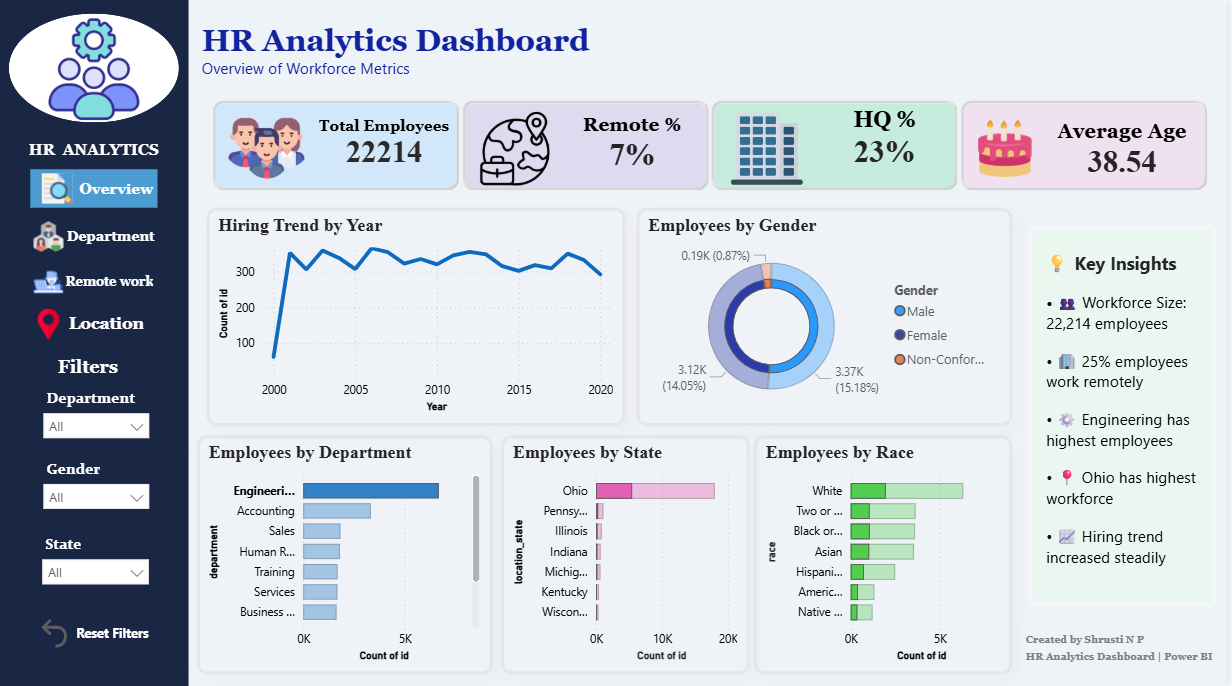

The dashboard page shown, as its layout file describes it:
{"tool":"powerbi","page":{"name":"Page 1","canvas":[1283,720],"ordinal":0},"visuals":[{"type":"cardVisual","fields":{"Data":["project_hr_analytics HR.Total Employees","project_hr_analytics HR.Remote %","project_hr_analytics HR.HQ %","project_hr_analytics HR.Average Age"]},"box":[207.5,90,1072.5,128.8],"z":0},{"type":"lineChart","title":"Hiring Trend by Year","fields":{"Category":["project_hr_analytics HR.hire_date.Variation.Date Hierarchy.Year1"],"Y":["CountNonNull(project_hr_analytics HR.id)"]},"box":[217.5,218.8,437.5,227.5],"z":1000},{"type":"donutChart","title":"Employees by Gender","fields":{"Category":["project_hr_analytics HR.gender"],"Y":["CountNonNull(project_hr_analytics HR.id)"]},"box":[666.2,218.8,392.5,227.5],"z":2000},{"type":"barChart","title":"Employees by Department","fields":{"Category":["project_hr_analytics HR.department"],"Y":["CountNonNull(project_hr_analytics HR.id)"]},"box":[207.5,456.2,308.8,250],"z":3000},{"type":"barChart","title":"Employees by State","fields":{"Category":["project_hr_analytics HR.location_state"],"Y":["CountNonNull(project_hr_analytics HR.id)"]},"box":[525,456.2,260,250],"z":4000},{"type":"barChart","title":"Employees by Race","fields":{"Category":["project_hr_analytics HR.race"],"Y":["CountNonNull(project_hr_analytics HR.id)"]},"box":[788.8,456.2,270,250],"z":5000},{"type":"textbox","box":[207.5,3.8,433.8,86.2],"z":6000},{"type":"shape","box":[1075,237.5,196.2,397.5],"z":7000},{"type":"textbox","box":[1087.5,258.8,152.5,35],"z":8000},{"type":"textbox","box":[1088.8,301.2,172.5,310],"z":9000},{"type":"shape","box":[0,0,198.8,720],"z":10000},{"type":"shape","box":[11.2,16.2,177.5,113.8],"z":11000},{"type":"image","box":[33.8,18.8,132.5,111.2],"z":12000},{"type":"textbox","box":[11.2,130,177.5,48.8],"z":13000},{"type":"actionButton","box":[33.8,178.8,132.5,40],"z":14000},{"type":"actionButton","box":[25,228.8,142.5,40],"z":15000},{"type":"actionButton","box":[25,320,131.2,40],"z":16000},{"type":"actionButton","box":[25,276.2,141.2,40],"z":17000},{"type":"actionButton","box":[38.8,642.5,122.5,40],"z":18000},{"type":"slicer","fields":{"Values":["project_hr_analytics HR.gender"]},"box":[37.5,476.2,130,68.8],"z":19000},{"type":"slicer","fields":{"Values":["project_hr_analytics HR.department"]},"box":[37.5,402.5,130,67.5],"z":20000},{"type":"slicer","fields":{"Values":["project_hr_analytics HR.location_state"]},"box":[36.2,555,131.2,68.8],"z":21000},{"type":"textbox","box":[46.2,368.8,95,33.8],"z":22000},{"type":"textbox","box":[1067.5,653.8,212.5,52.5],"z":23000}]}

Visuals, with their boxes in screenshot pixels (x1, y1, x2, y2), scaled from the page's 1283x720 canvas onto the 1232x686 screenshot:
cardVisual - project_hr_analytics HR.Total Employees x project_hr_analytics HR.Remote %: <box>199,86,1229,208</box>
"Hiring Trend by Year" lineChart: <box>209,208,629,425</box>
"Employees by Gender" donutChart: <box>640,208,1017,425</box>
"Employees by Department" barChart: <box>199,435,496,673</box>
"Employees by State" barChart: <box>504,435,754,673</box>
"Employees by Race" barChart: <box>757,435,1017,673</box>
textbox: <box>199,4,616,86</box>
shape: <box>1032,226,1221,605</box>
textbox: <box>1044,247,1191,280</box>
textbox: <box>1046,287,1211,582</box>
shape: <box>0,0,191,685</box>
shape: <box>11,15,181,124</box>
image: <box>32,18,160,124</box>
textbox: <box>11,124,181,170</box>
actionButton: <box>32,170,160,208</box>
actionButton: <box>24,218,161,256</box>
actionButton: <box>24,305,150,343</box>
actionButton: <box>24,263,160,301</box>
actionButton: <box>37,612,155,650</box>
slicer - project_hr_analytics HR.gender: <box>36,454,161,519</box>
slicer - project_hr_analytics HR.department: <box>36,383,161,448</box>
slicer - project_hr_analytics HR.location_state: <box>35,529,161,594</box>
textbox: <box>44,351,136,384</box>
textbox: <box>1025,623,1229,673</box>
